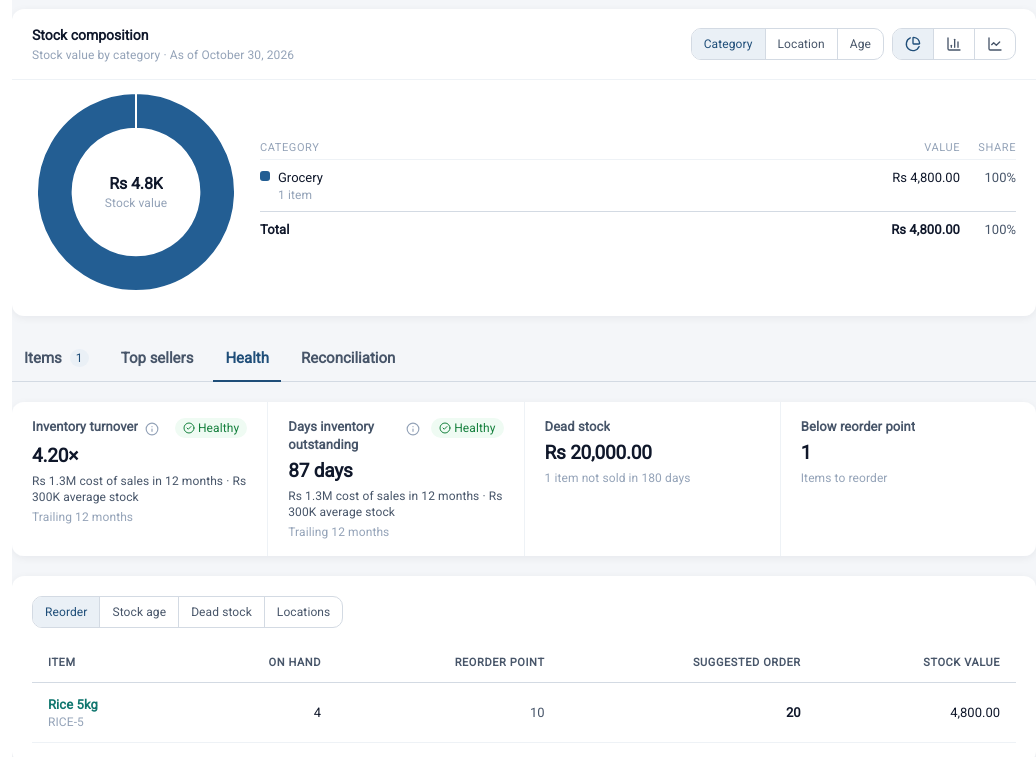
Test: InventoryValuationPage — Health tab and as-of stock (reports v2) › switches health views through the URL
The width and height of the screenshot is (1036, 757).
(page scrolled)
Click the button "Dead stock" at (221, 612), box left=178, top=597, right=264, bottom=627
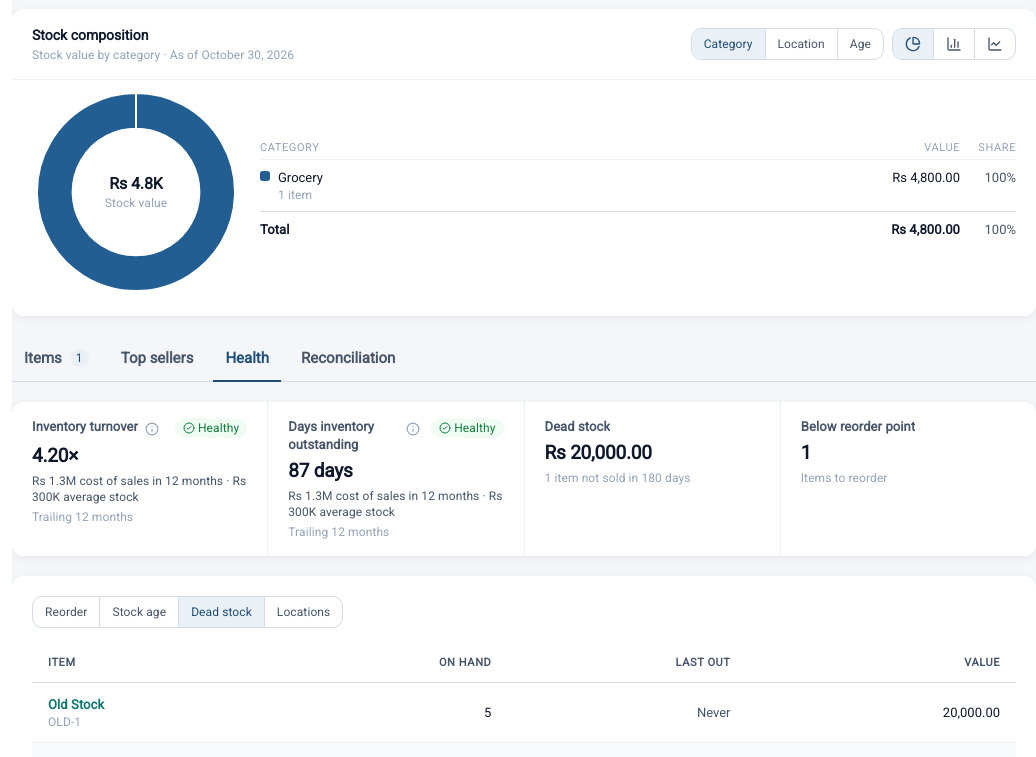
Expected: the text "Never" is shown, left=507, top=683, right=746, bottom=742
Click the button "Locations" at (303, 612), box left=264, top=597, right=342, bottom=627
(page scrolled)
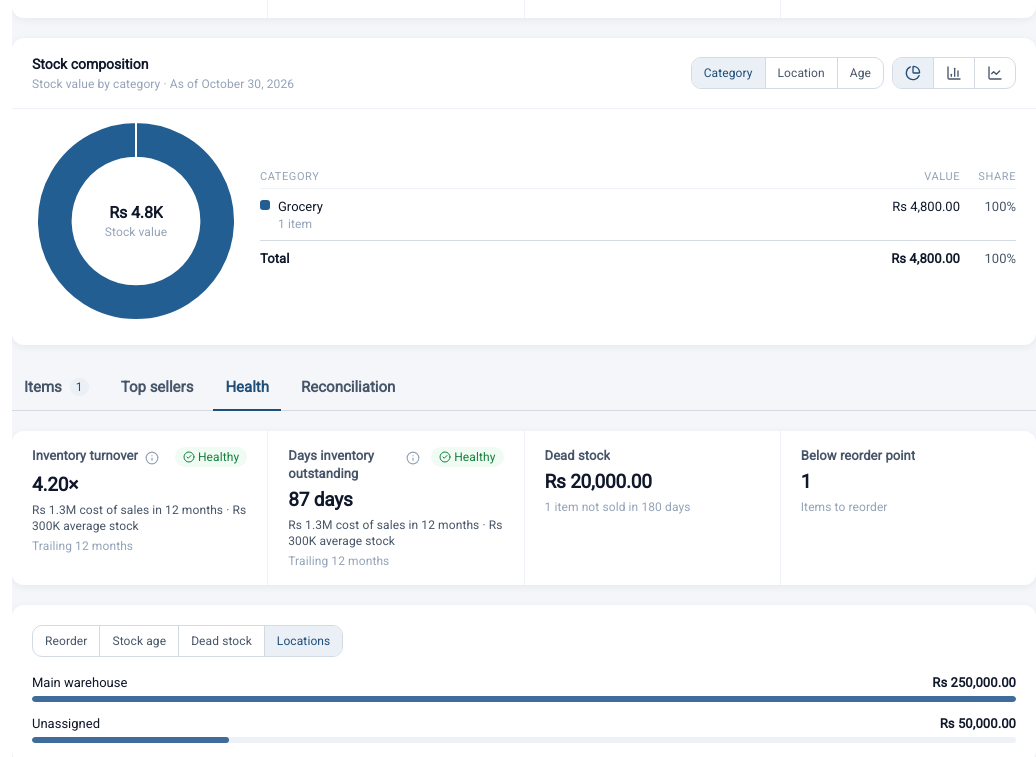
Expected: the text "Main warehouse" is shown, left=32, top=673, right=127, bottom=692
